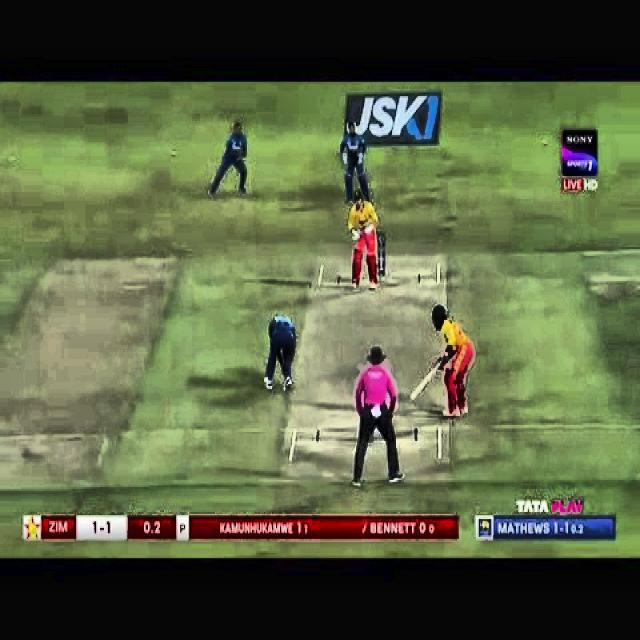Middle-stump: (378, 234, 380, 277)
Right-stump: (383, 235, 385, 276)
